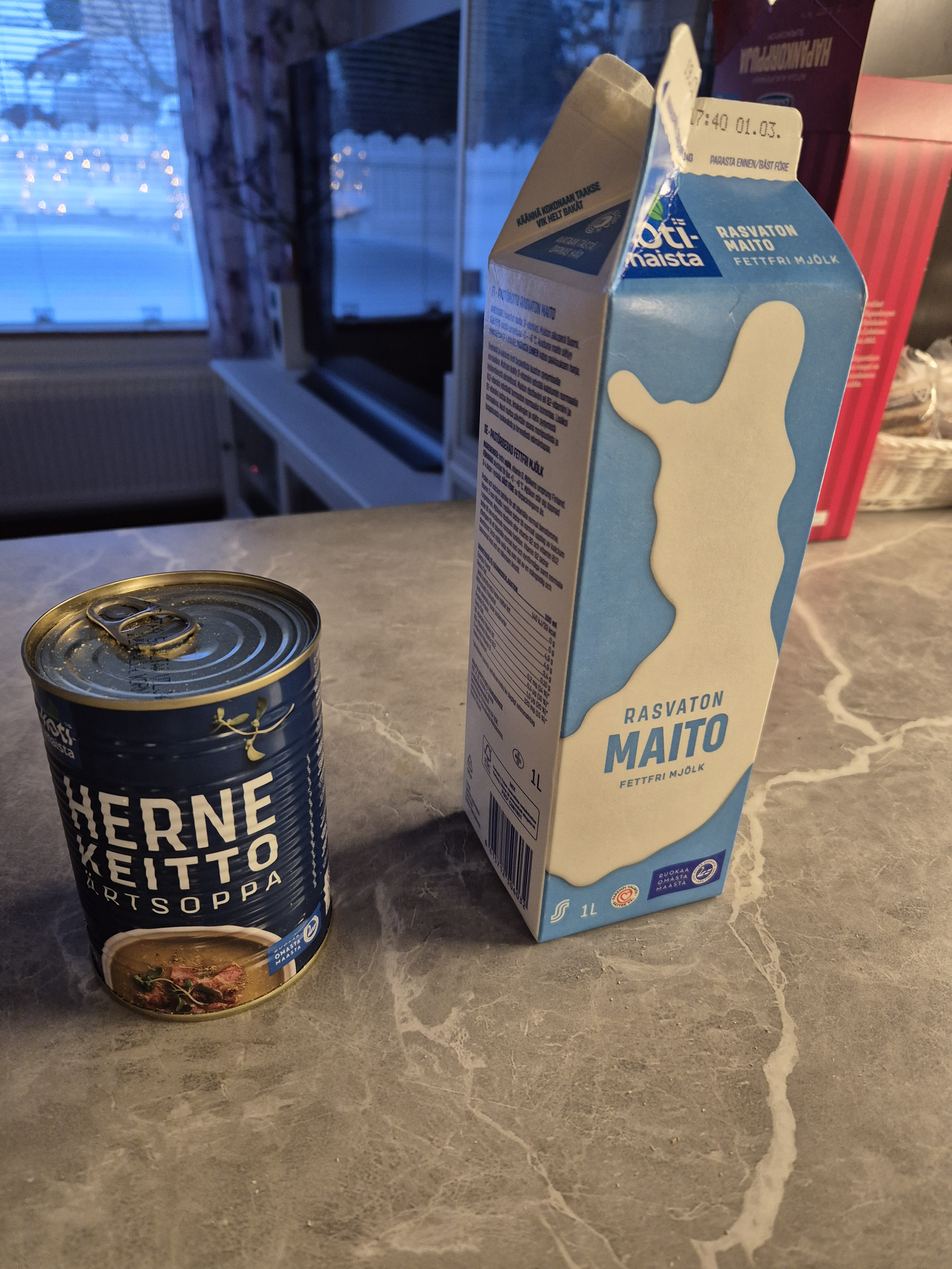Dryckeskartong: (459, 20, 871, 945)
Konservburk: (19, 568, 336, 1023)
